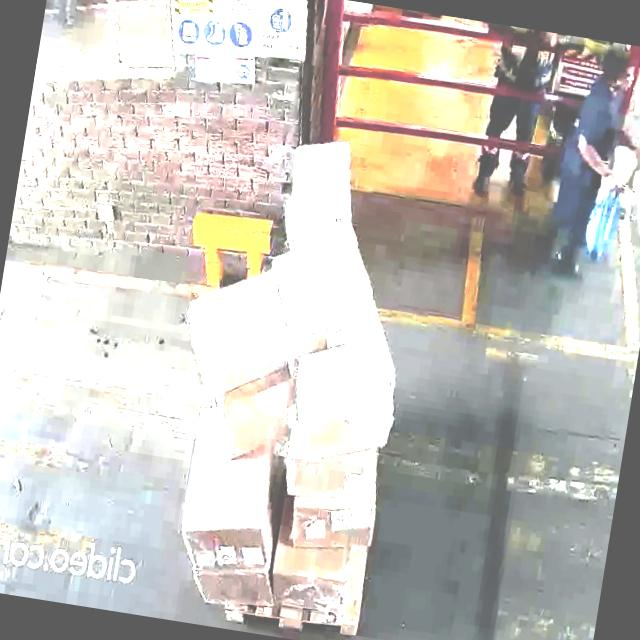Box: (288, 332, 406, 474), (182, 272, 292, 394), (176, 444, 276, 576), (281, 229, 359, 347), (215, 363, 298, 467), (284, 130, 362, 238), (264, 539, 352, 621), (284, 489, 376, 564), (282, 442, 376, 507), (190, 560, 272, 614)
